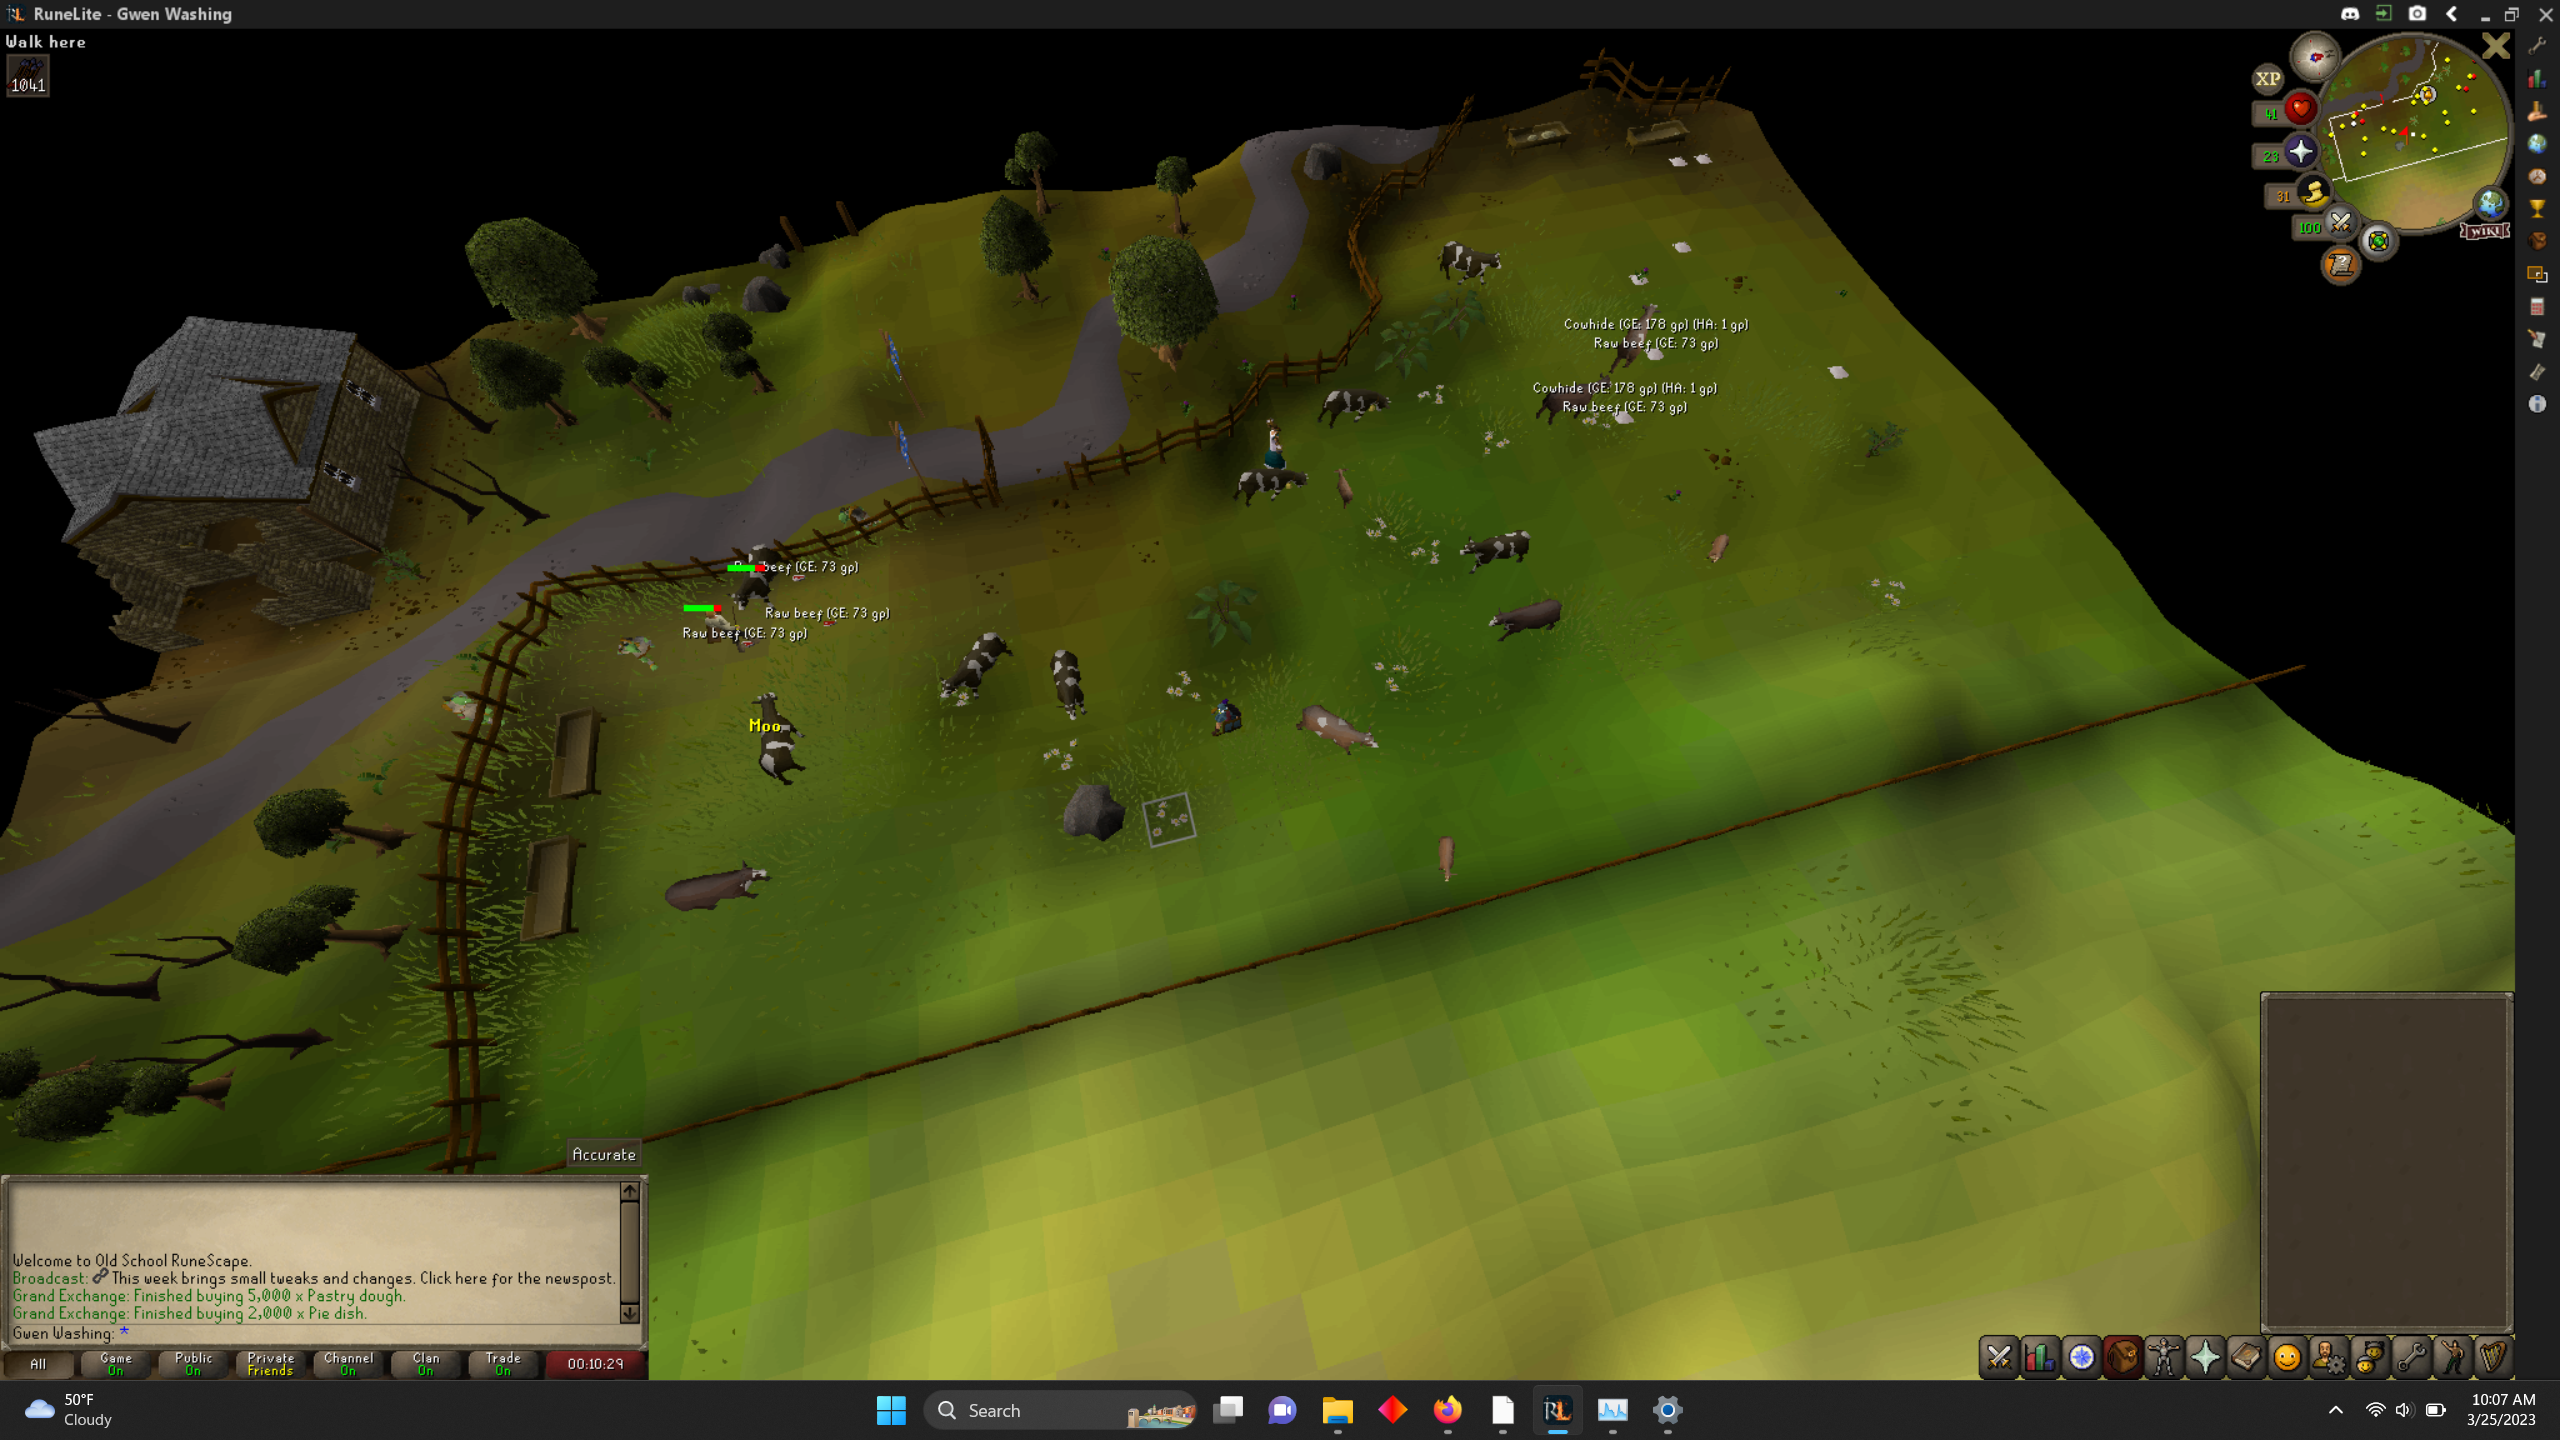cow: (665, 855, 781, 925), (1292, 695, 1387, 768), (745, 689, 814, 791), (935, 628, 1015, 710), (1454, 519, 1544, 577), (724, 542, 796, 608), (1487, 591, 1567, 651), (1043, 642, 1095, 724), (1531, 373, 1612, 424), (1319, 378, 1394, 431), (1619, 301, 1663, 385), (1435, 234, 1503, 287), (1231, 462, 1308, 506), (1429, 828, 1463, 895), (1698, 524, 1735, 578), (1329, 462, 1364, 505)
